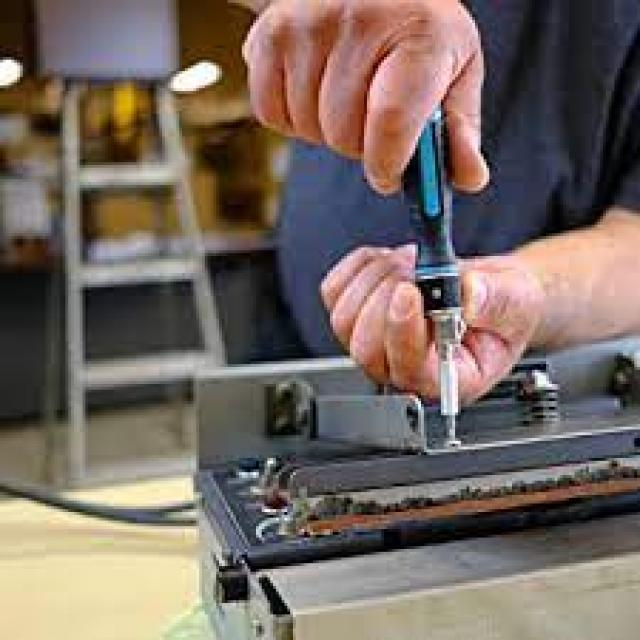screwdriver: (396, 49, 484, 428)
